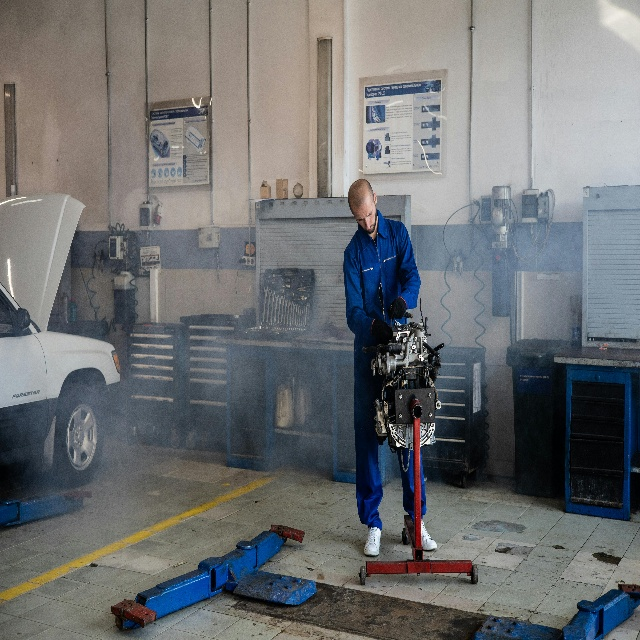Guantes: (371, 318, 393, 345), (388, 295, 407, 321)
